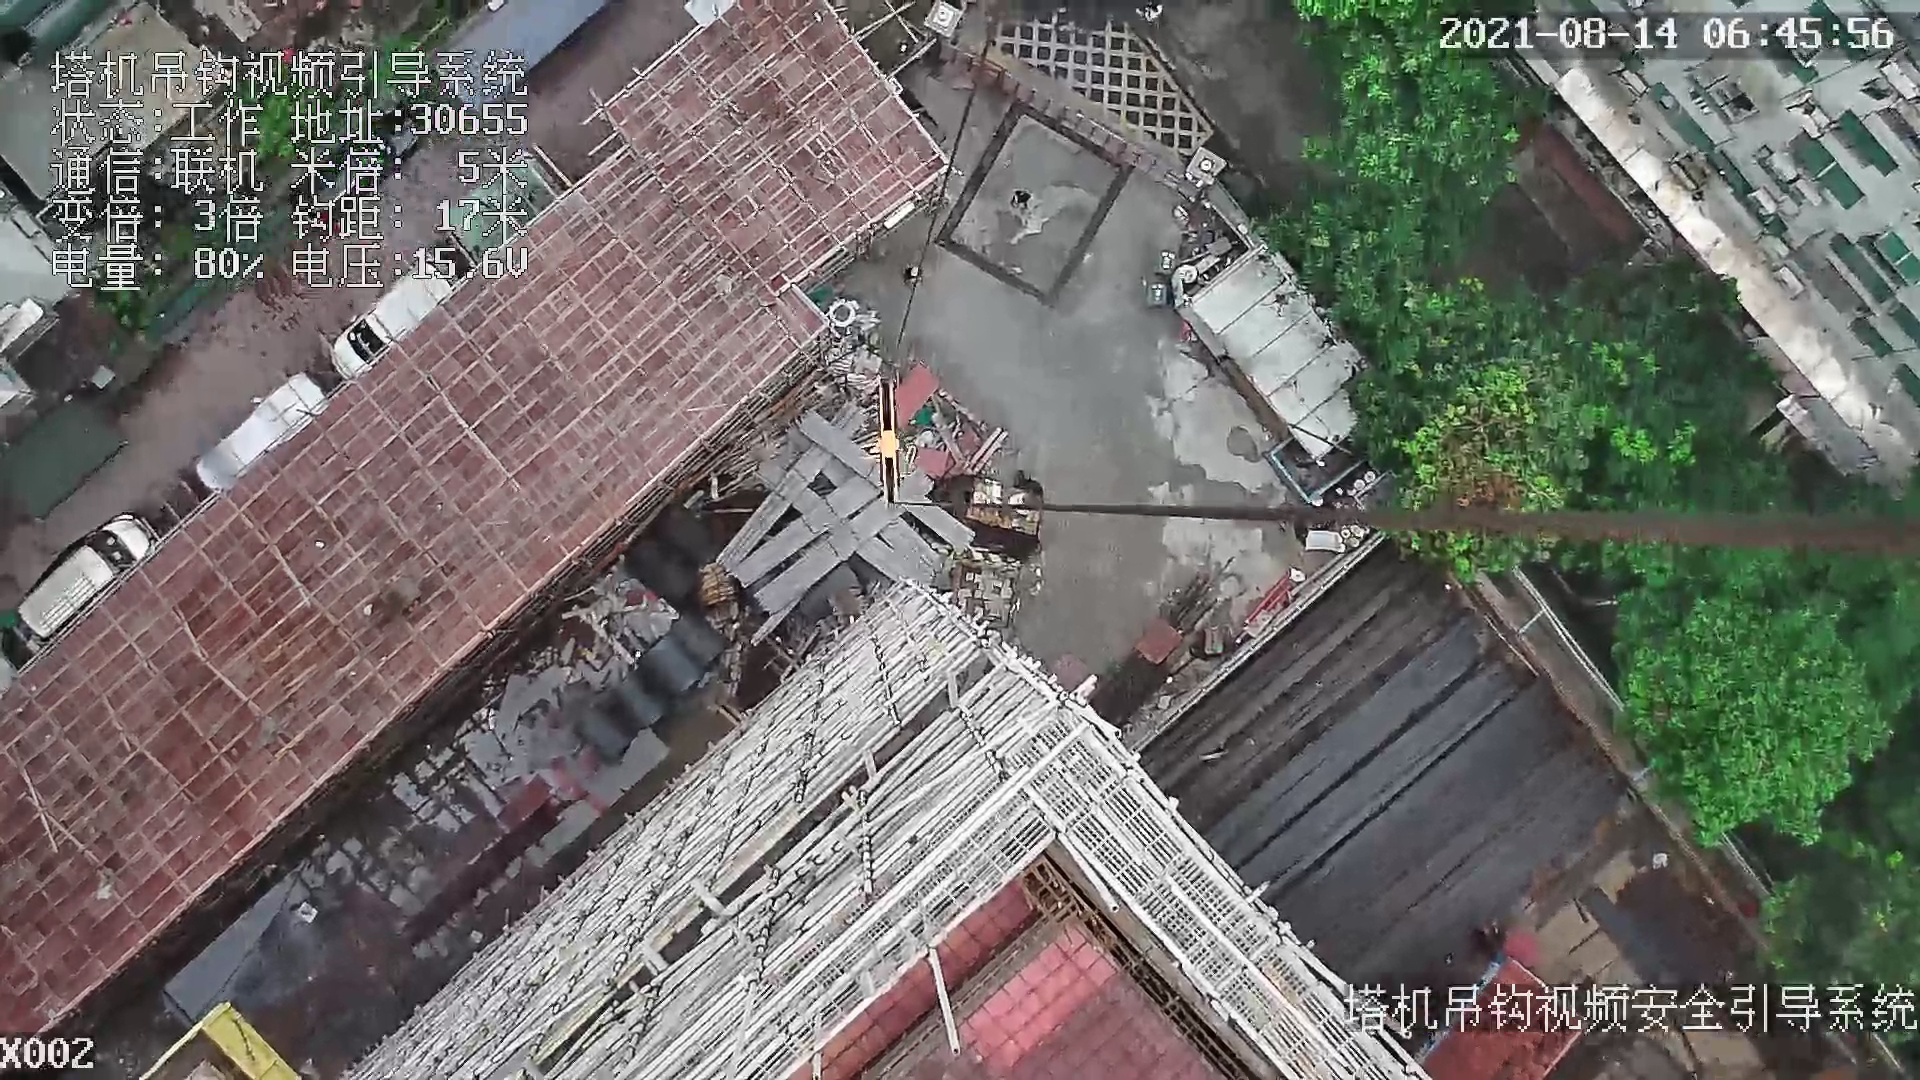helmet: (911, 266, 919, 276)
hook: (863, 378, 903, 509)
person: (901, 257, 933, 287), (1007, 186, 1033, 219)
